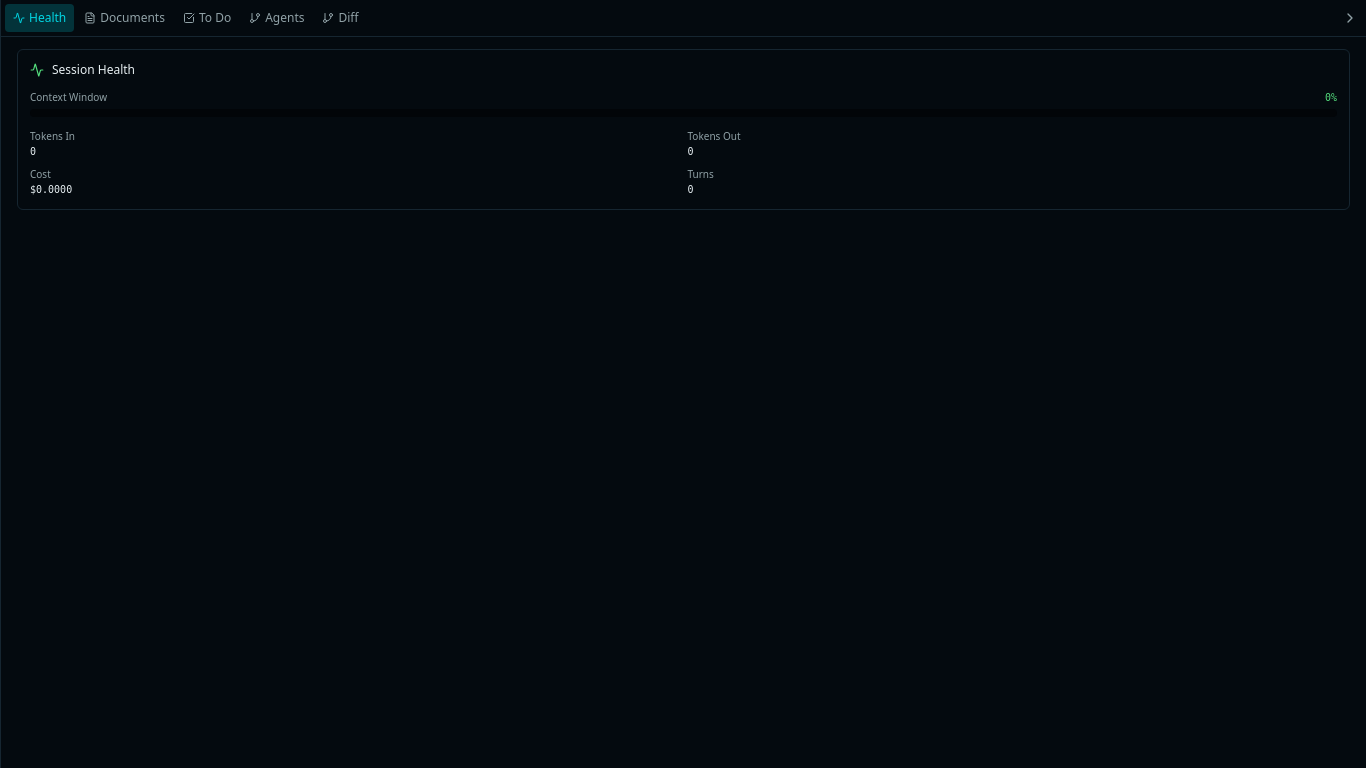
it: GoalPlanPane › shows empty state on Documents tab when no files exist
Click the button "Documents".
click(125, 18)  # box [76,4,173,32]
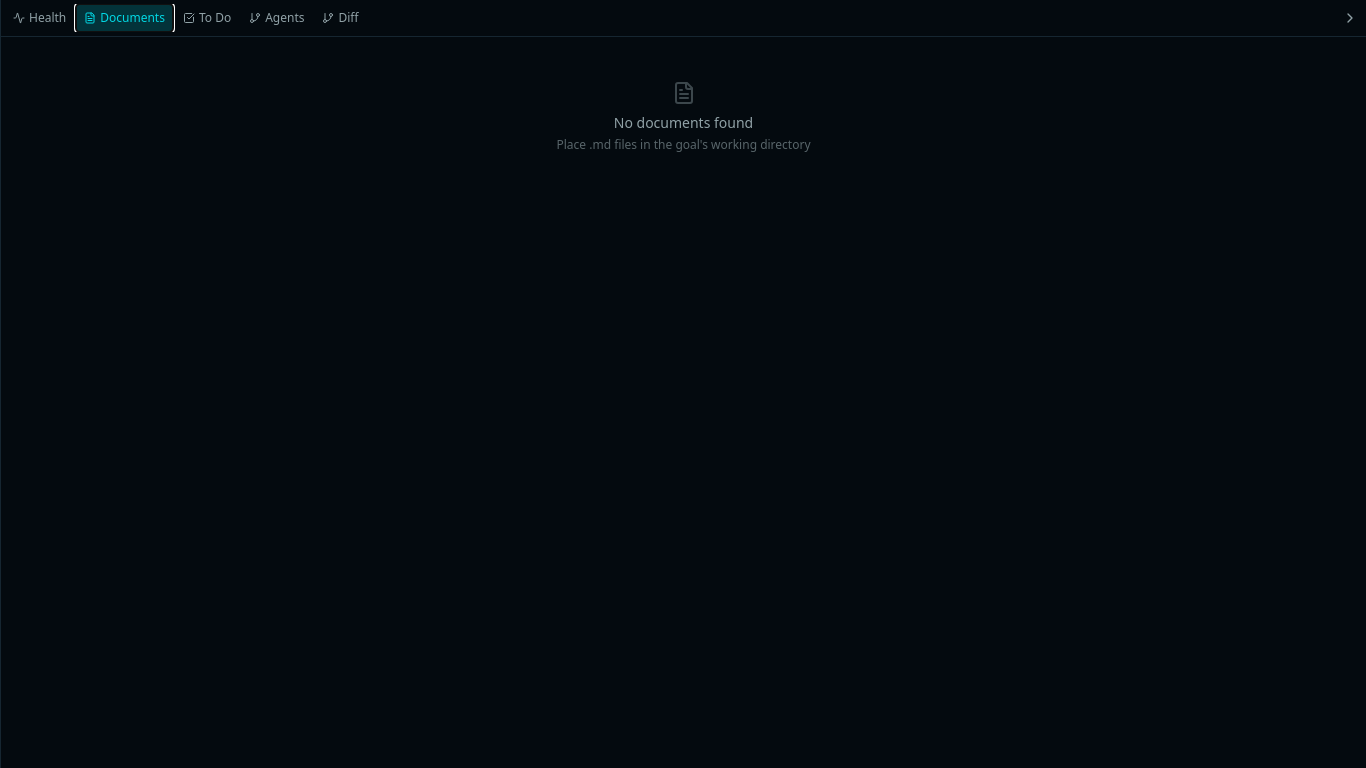
Check: the text "No documents found" is shown, box [614,113,753,133]
